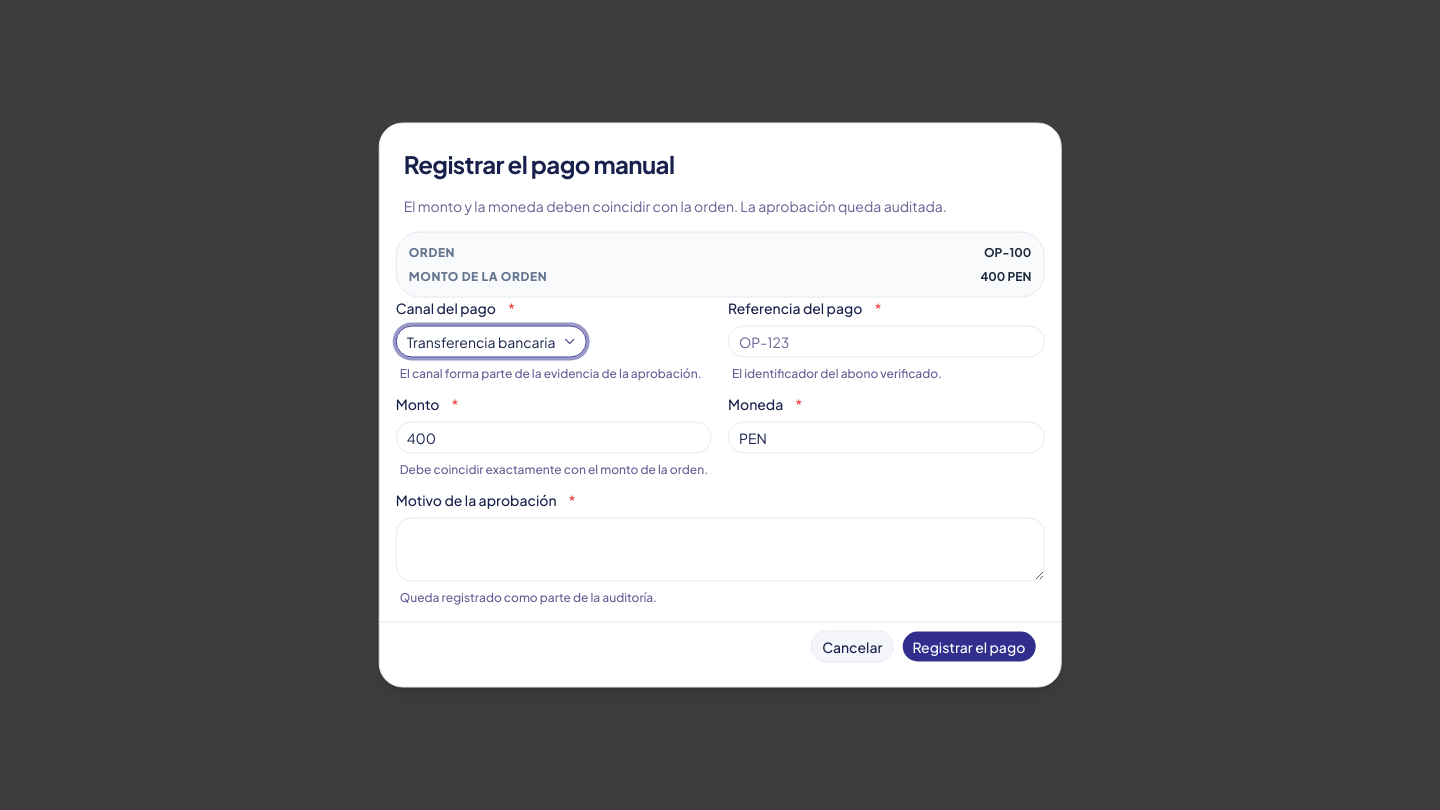
Test: AdminPagoManualDialog › renderiza el CONFLICTO del backend como alerta
Expected: the dialog is shown, [379, 122, 1061, 688]
In the field labelled "Referencia del pago *": (886, 342) [728, 326, 1044, 358], type "OP-999"
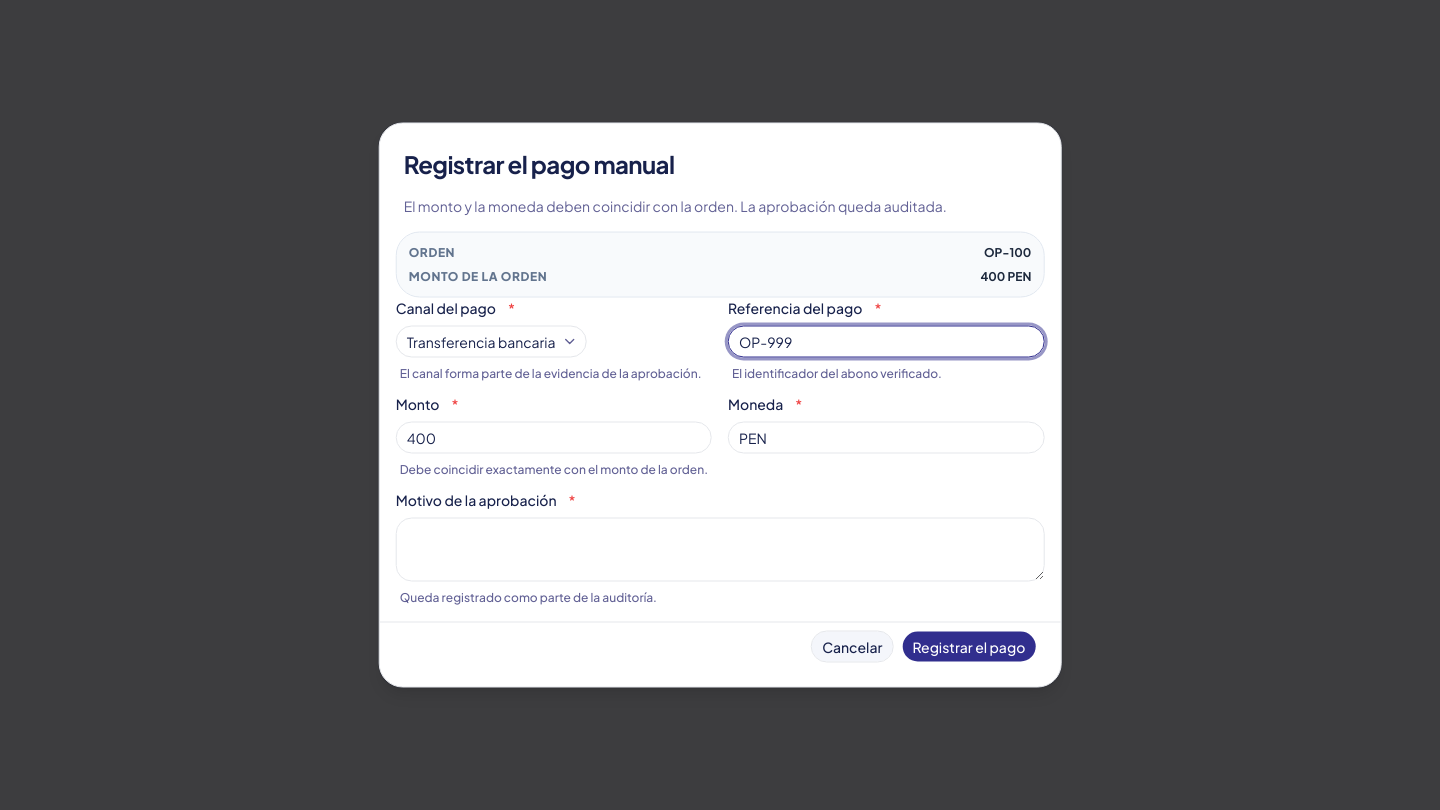
In the text box labelled "Motivo de la aprobación *": (720, 550) [396, 518, 1044, 582], type "Abono verificado en la cuenta"
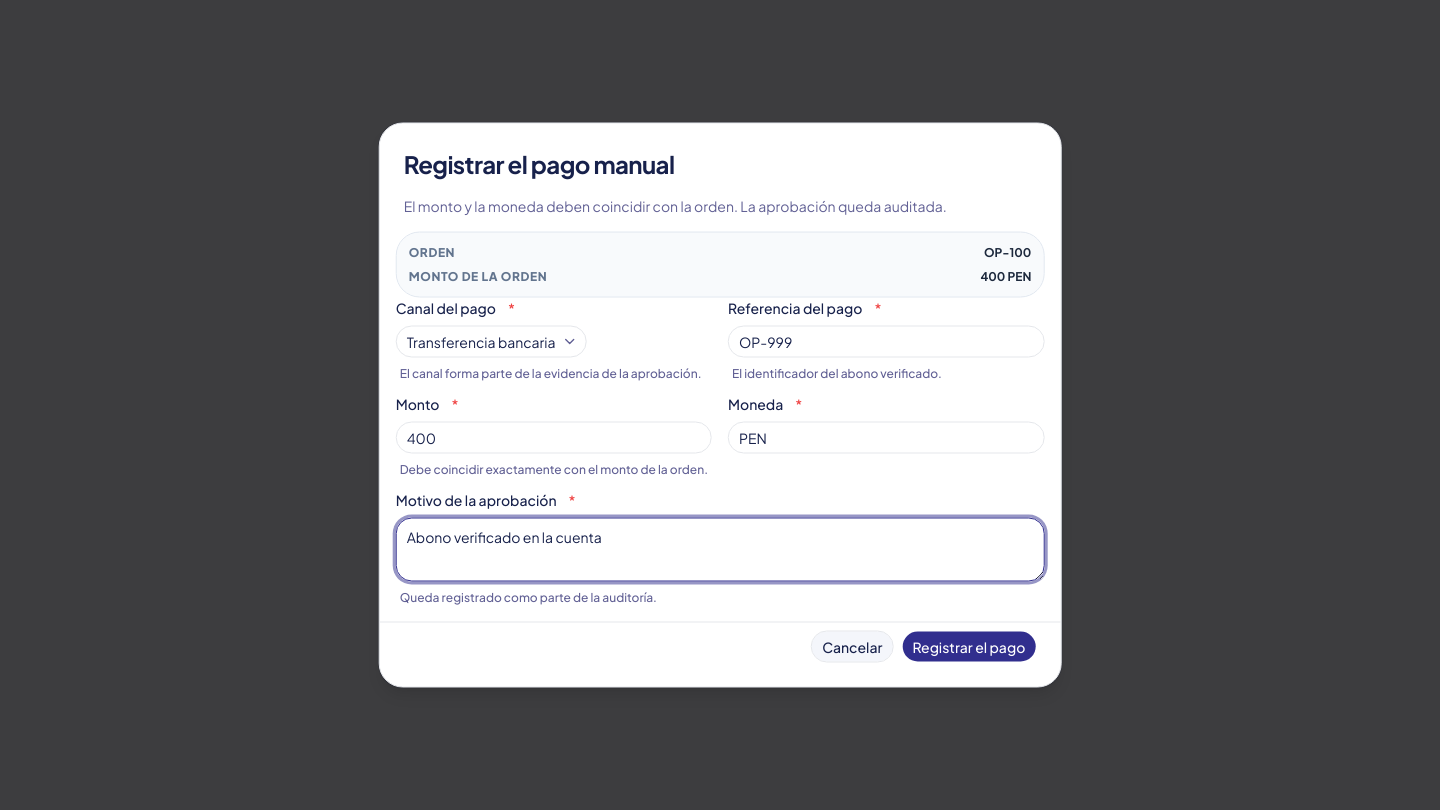
Click the button "Registrar el pago": click(969, 646) [901, 630, 1036, 662]
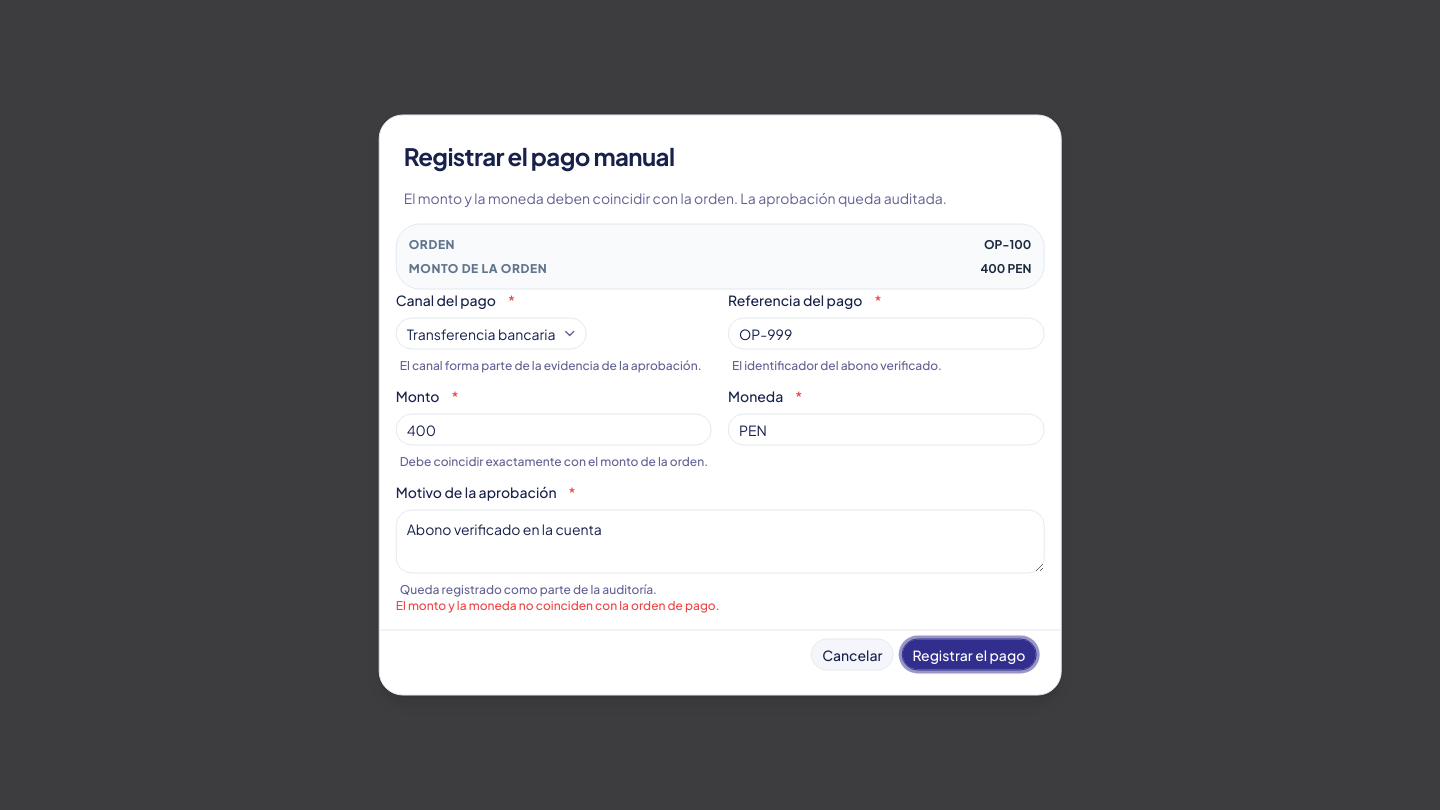
Now the message reads "El monto y la moneda no coinciden con la orden de pago.", box [396, 598, 720, 612]
